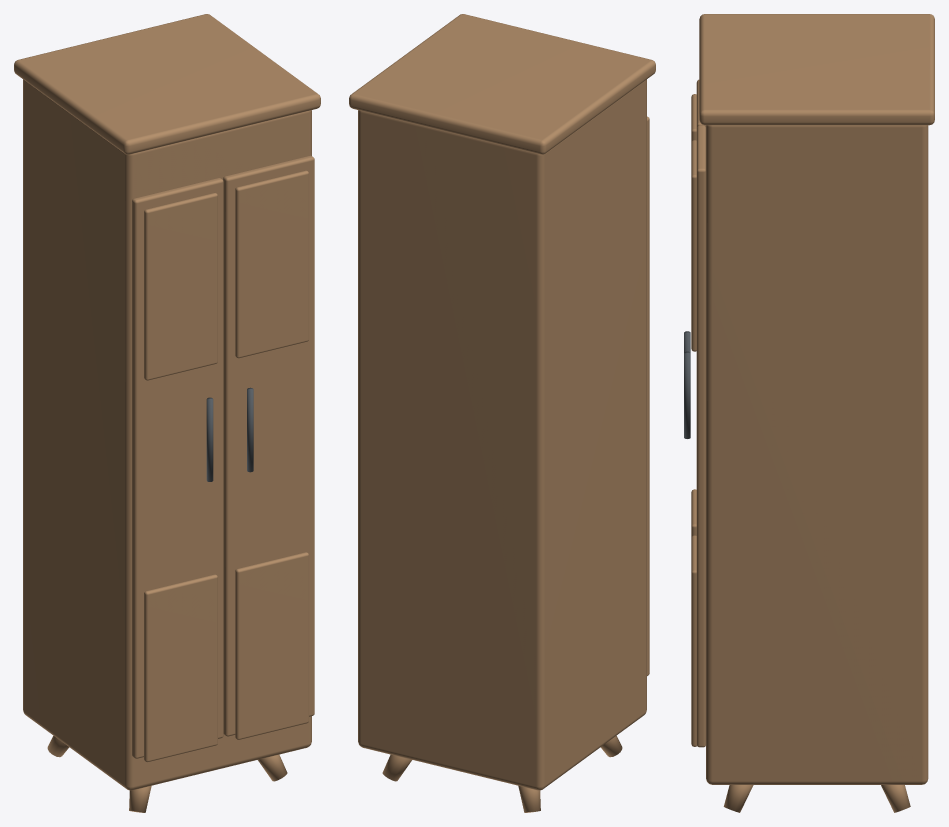
The model's file is atelier-tall-kitchen-cabinet.glb.
3 views of the same model, side by side, from view 1: azimuth 30°, elevation 25°; view 2: azimuth 150°, elevation 25°; view 3: azimuth 270°, elevation 25° (orthographic). The views are drawn at different scales.
Parts seen in each view (by area): view 1: legs.155, metal.114; view 2: legs.155; view 3: legs.155, metal.114.
Boxes of the visible parts, x1,y1,x2,y2 form: legs.155: (14,14,320,812); metal.114: (206,387,253,481); legs.155: (349,14,655,812); legs.155: (691,14,934,812); metal.114: (684,331,690,438).
Size of the model in its own units: 0.635 by 2.13 by 0.6765.
